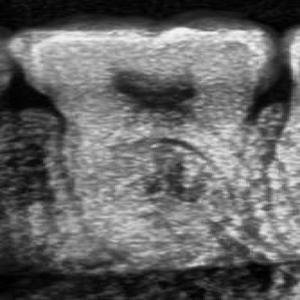tooth: (12, 18, 278, 256)
